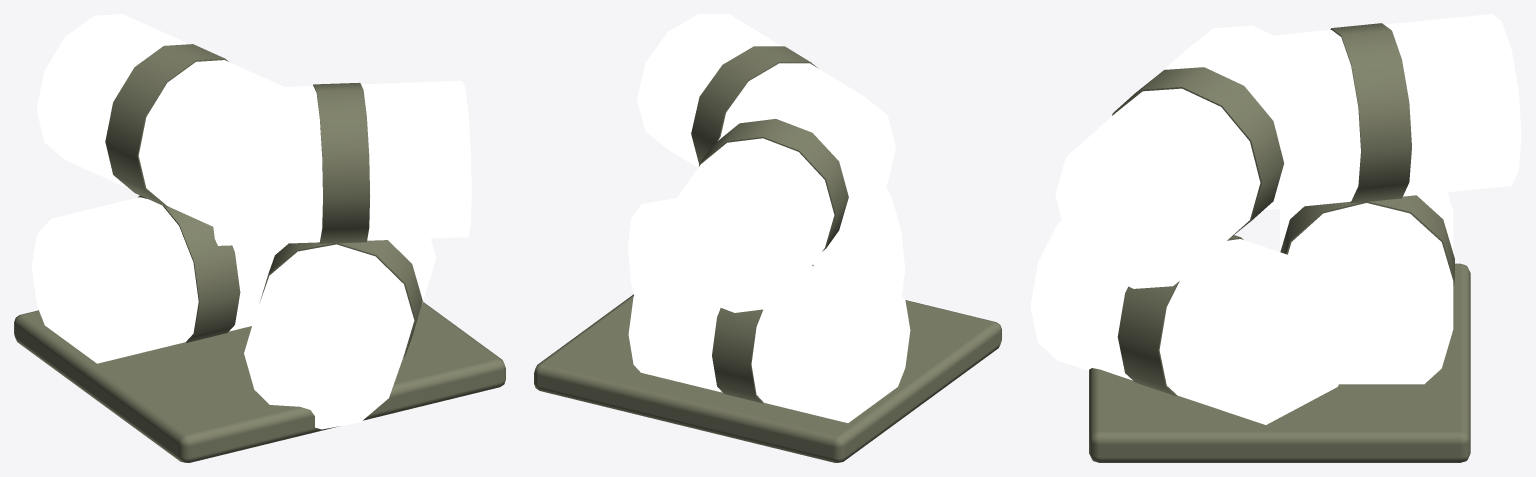
The model's file is fps-survival-forest-outpost-bandage-roll-6fb139f6__32667.glb.
3 views of the same model, side by side, from view 1: azimuth 30°, elevation 25°; view 2: azimuth 150°, elevation 25°; view 3: azimuth 270°, elevation 25° (orthographic). The views are drawn at different scales.
Visible parts, largest first — view 1: bandage-roll; view 2: bandage-roll; view 3: bandage-roll.
Boxes of the visible parts, box(x1,y1,x2,y2) form: bandage-roll: box(14, 14, 505, 462); bandage-roll: box(534, 14, 1001, 462); bandage-roll: box(1030, 14, 1521, 462).
Size of the model in its own units: 0.2437 by 0.206 by 0.283.
